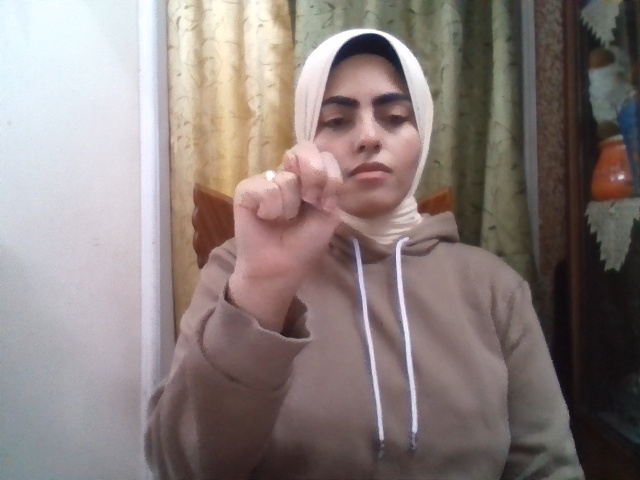N: (234, 141, 343, 287)
